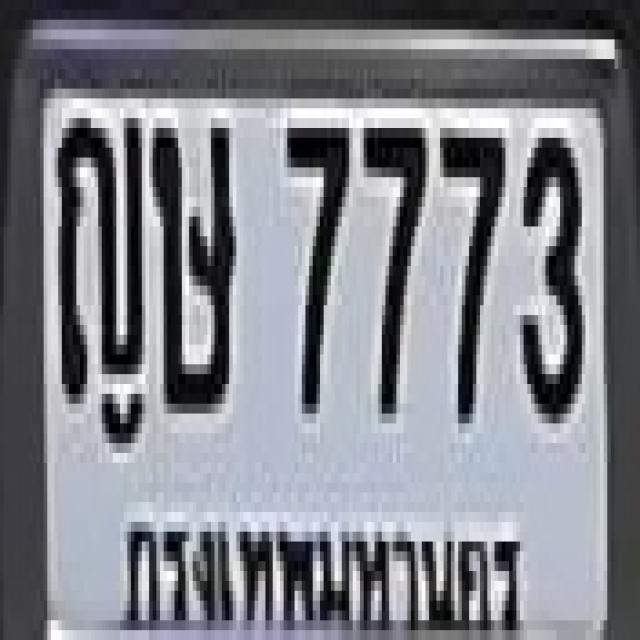-: (53, 103, 140, 399), (149, 108, 233, 404)
3: (516, 128, 578, 414)
7: (436, 118, 502, 414), (284, 118, 346, 404), (360, 118, 422, 404)
BKK: (120, 498, 530, 640)
